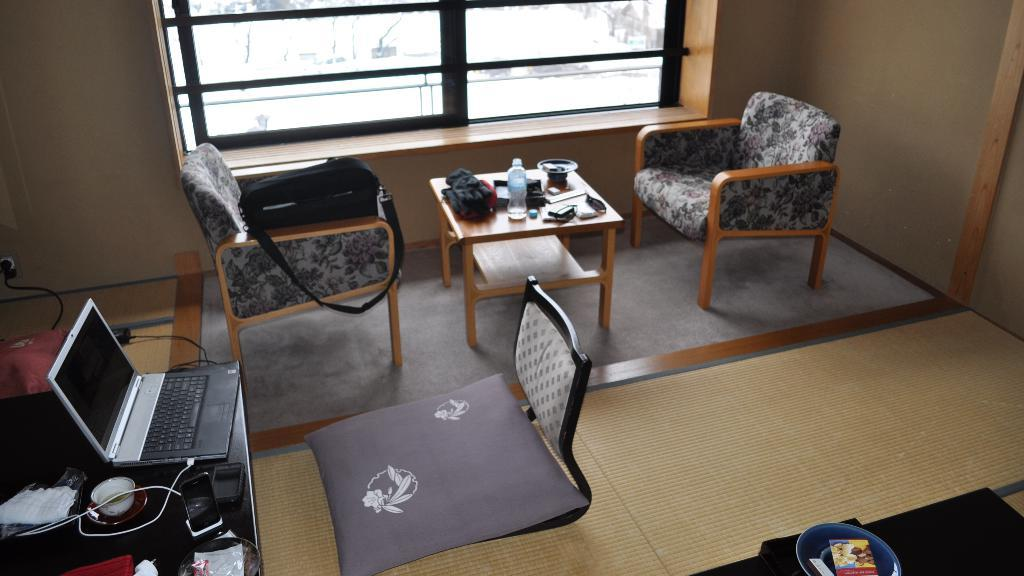Chair: (305, 277, 595, 575), (174, 139, 409, 366), (638, 93, 857, 313)
